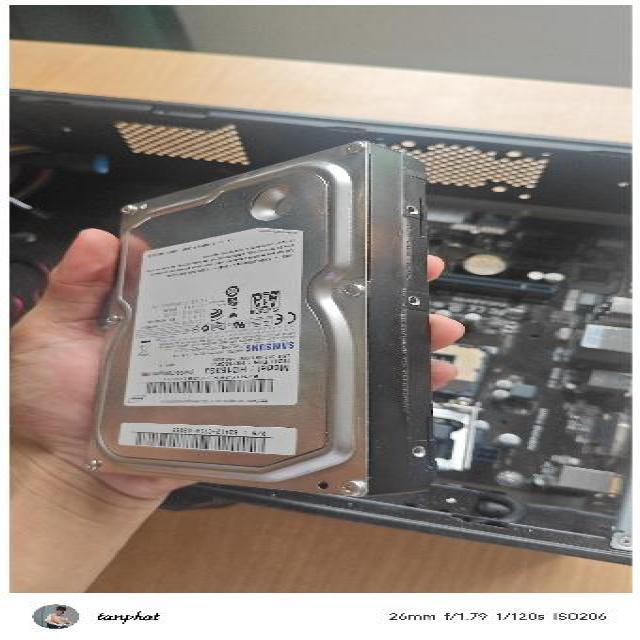DISK: (75, 137, 442, 498)
